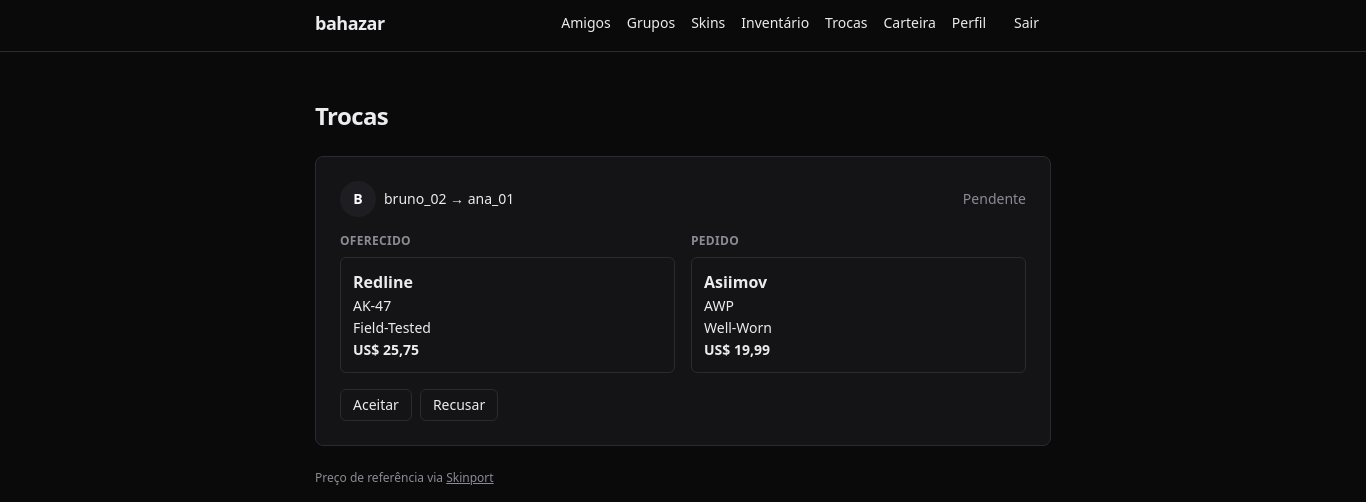
TradesPage › o 1º clique em Aceitar só pede confirmação: nada é enviado
The width and height of the screenshot is (1366, 502).
Expected: the heading "Trocas" is shown, [315,99,388,132]
Click the button with aria-label "Aceitar oferta de bruno_02": (376, 405) [340,389,412,421]
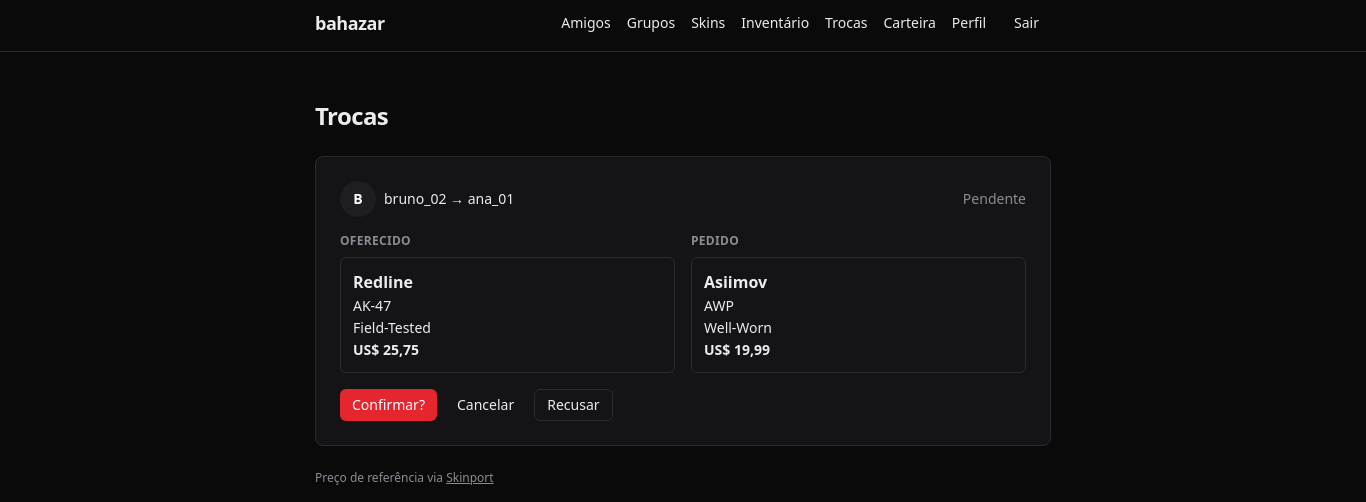
Now the button with aria-label "Confirmar Aceitar oferta de bruno_02" is shown, box [340,389,437,421]
